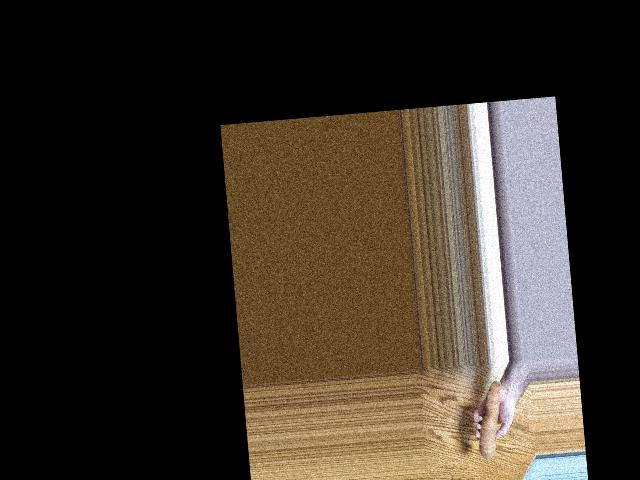sweet_potato: (470, 385, 510, 464)
